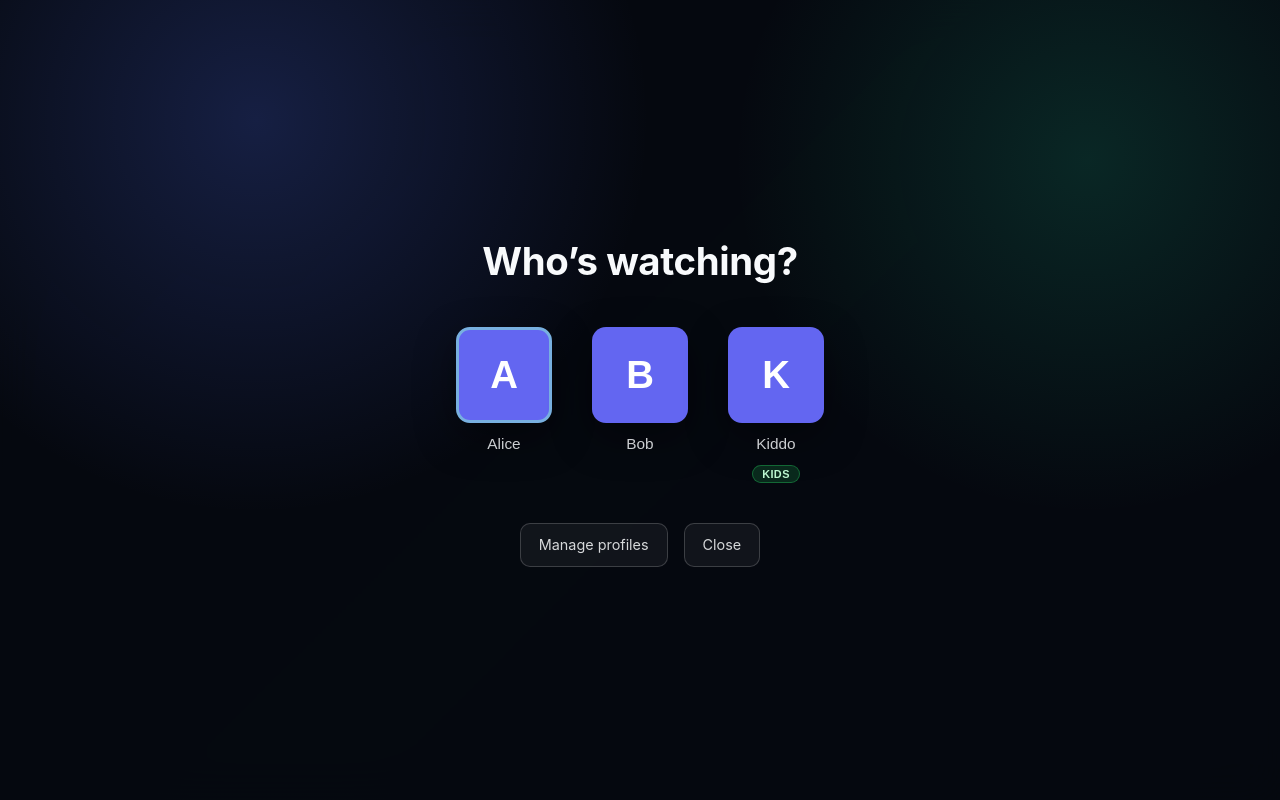
Test: ProfilePicker delete (two-step) › Delete → Cancel drops the pending confirm
Click the button "Manage profiles" at (594, 545), box [520,523,668,567]
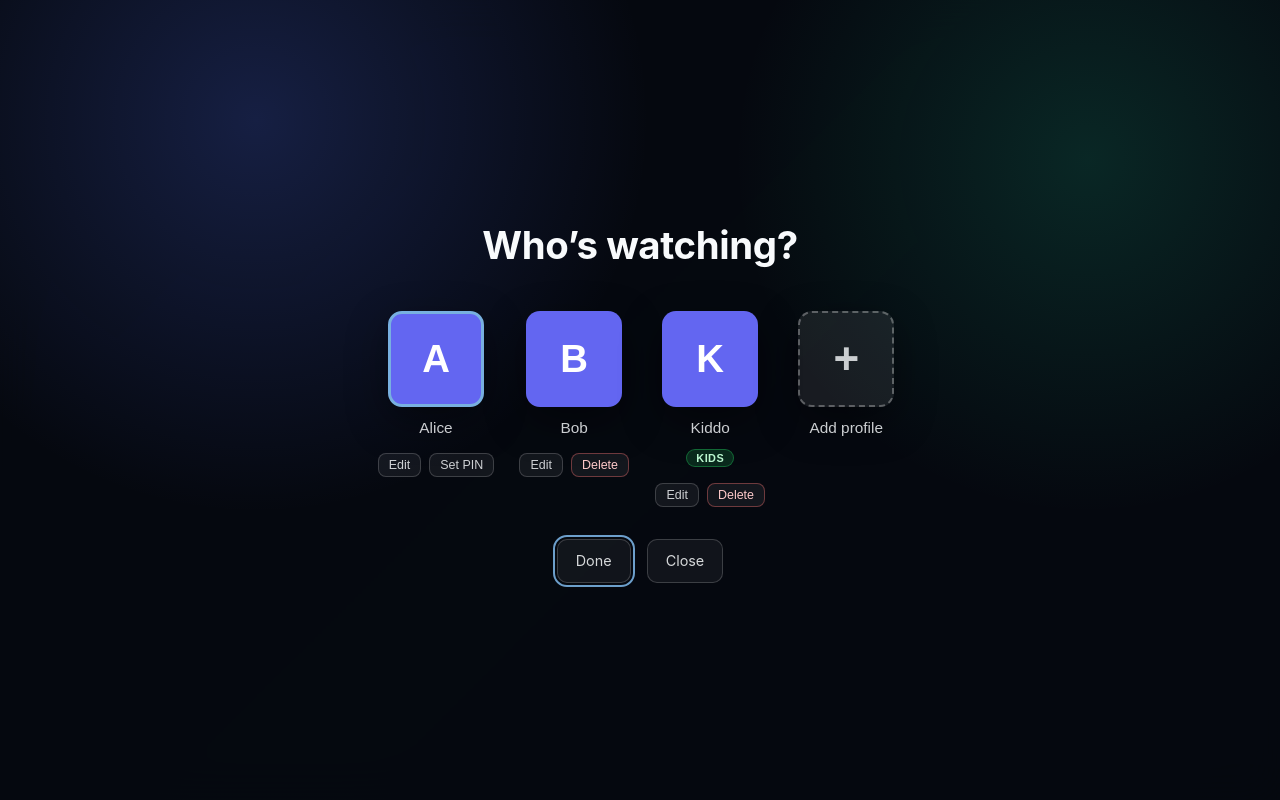
Click the button with aria-label "Delete Bob" at (600, 465), box [571,453,629,477]
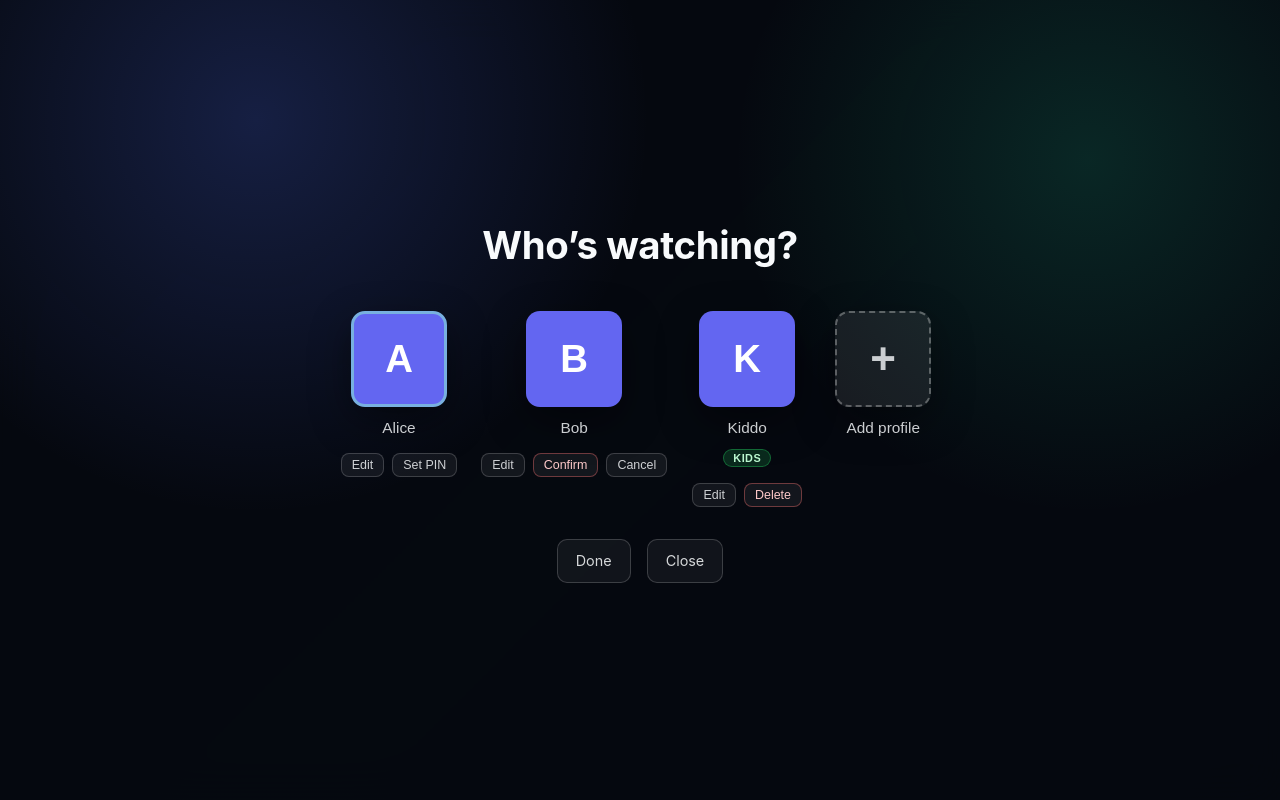
Click the button "Cancel" at (637, 465), box [606,453,667,477]
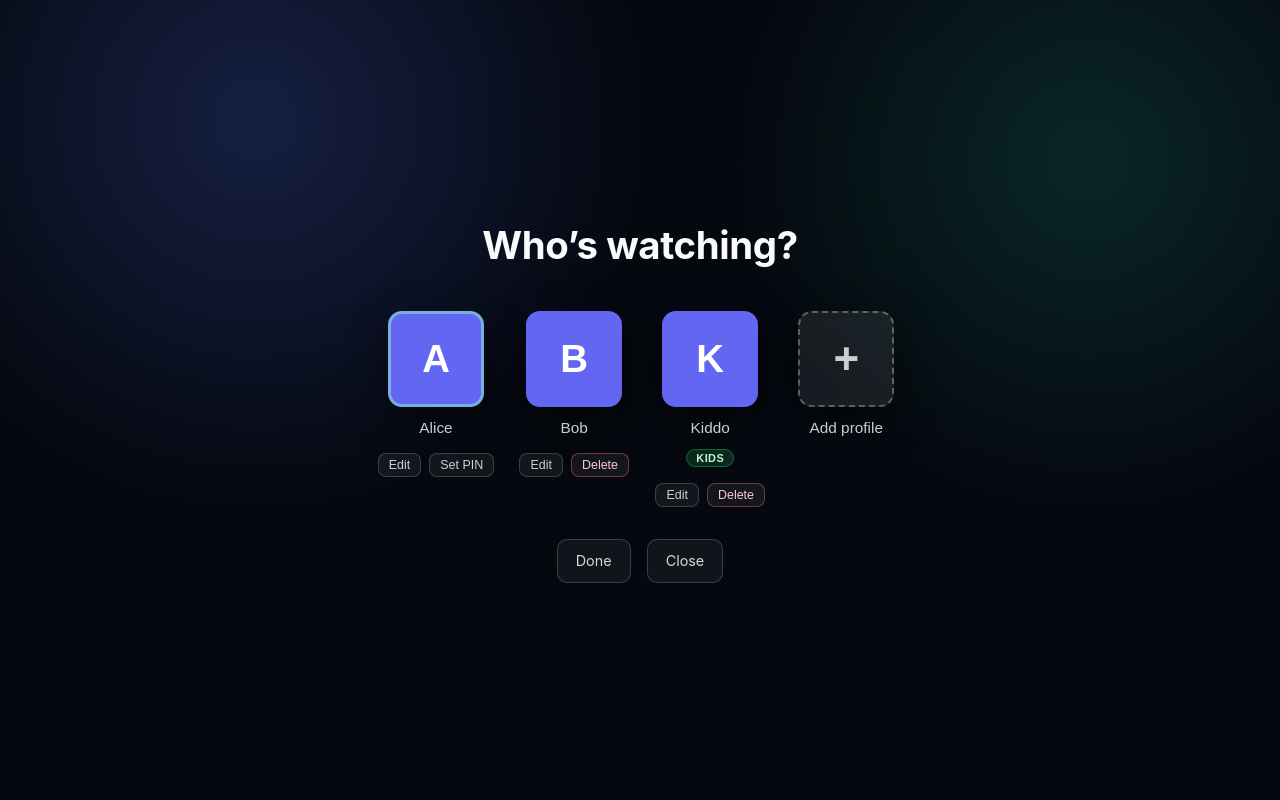
Expected: the button with aria-label "Delete Bob" is shown, [571,453,629,477]
